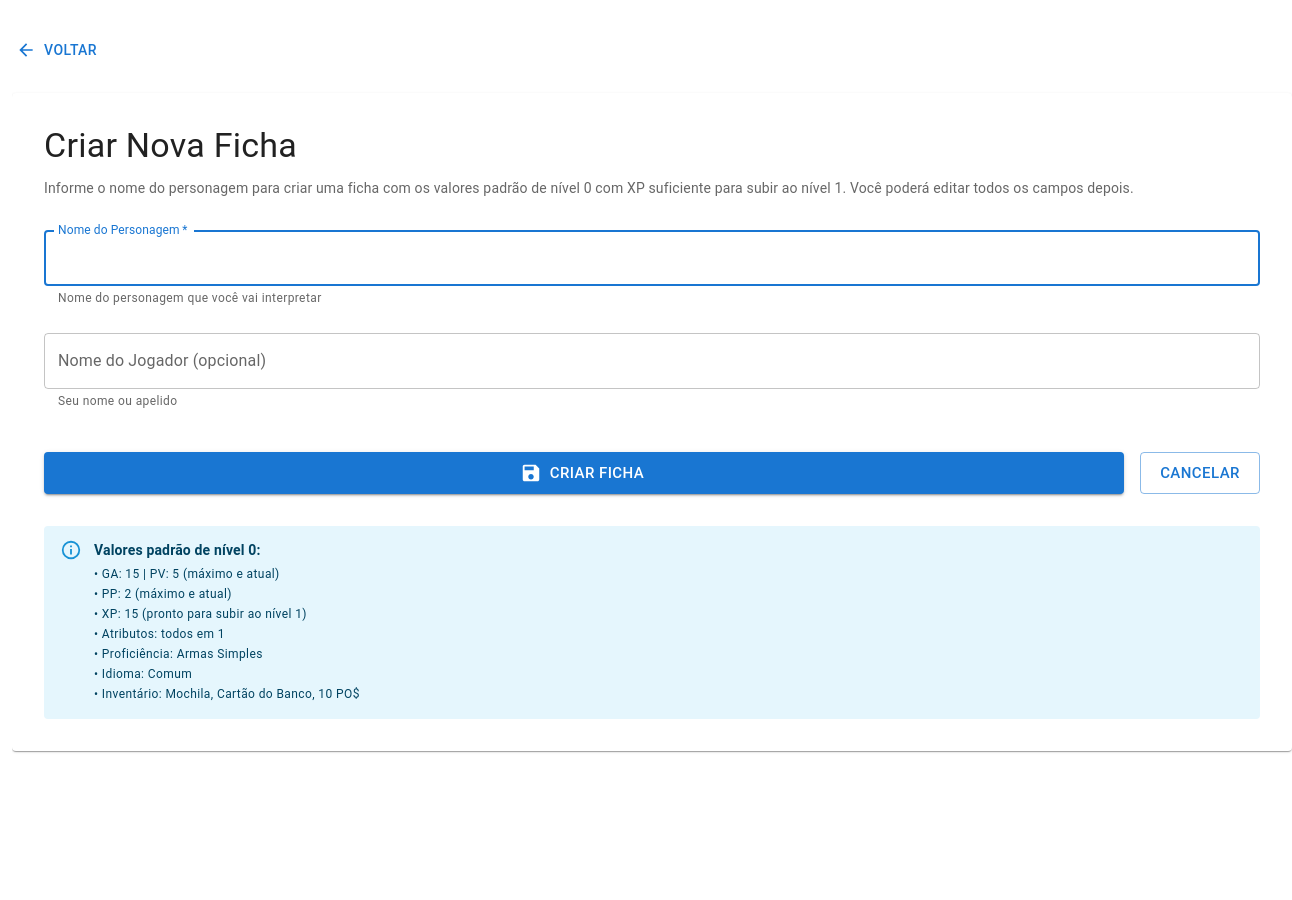
Fluxo de Criação de Personagem (Integração) › deve validar nome mínimo de 2 caracteres
Note: Preencher com nome muito curto
Type "A" into the field labelled "Nome do Personagem *" at (652, 258), box [44, 230, 1260, 286]
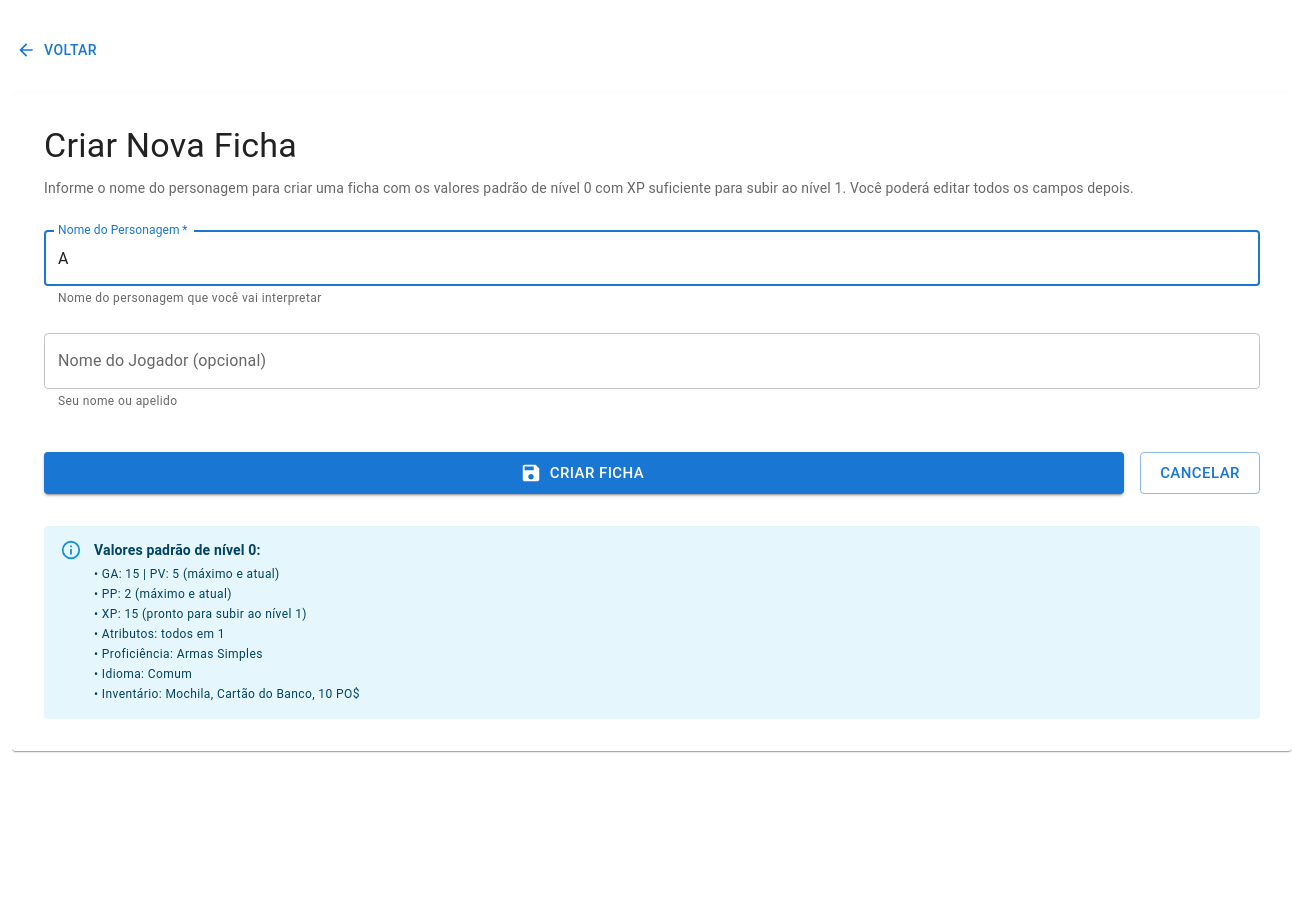
Click the button "Criar Ficha" at (584, 473), box [44, 452, 1124, 494]
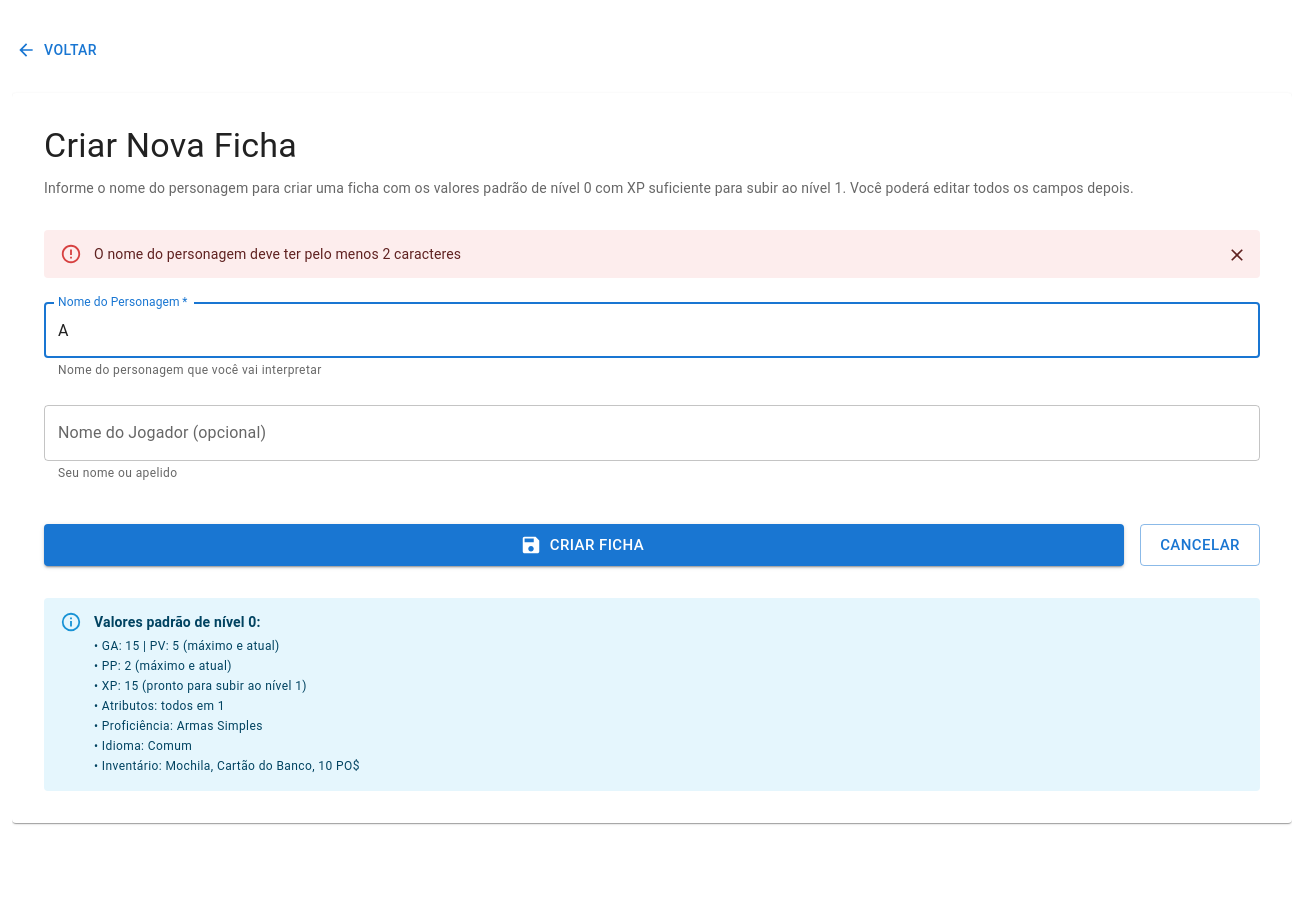
Expected: the text "O nome do personagem deve ter pelo menos 2 caracteres" is shown, [94, 246, 461, 262]
